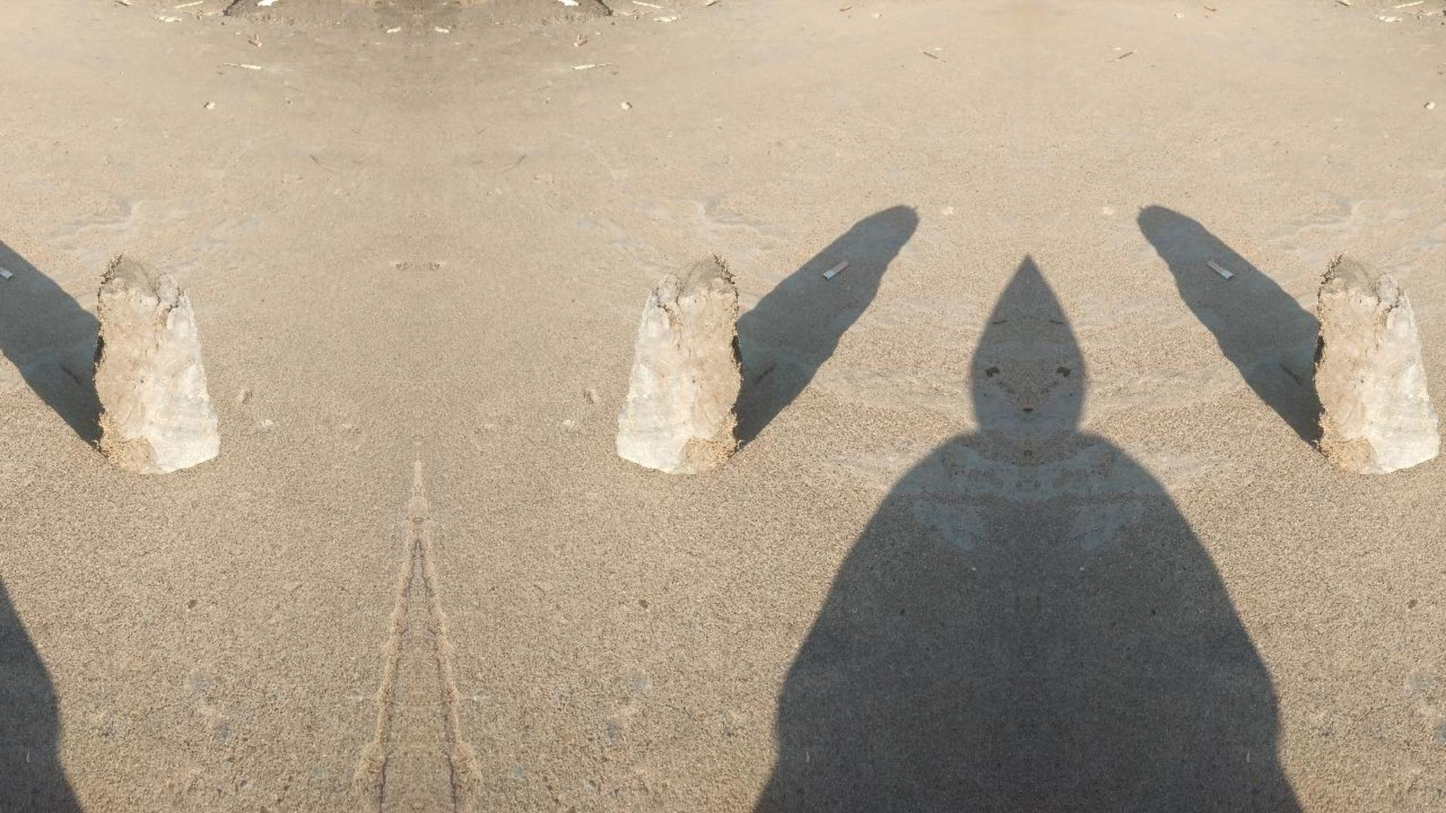rock: (1315, 255, 1438, 473), (617, 255, 740, 472), (95, 255, 218, 472)
